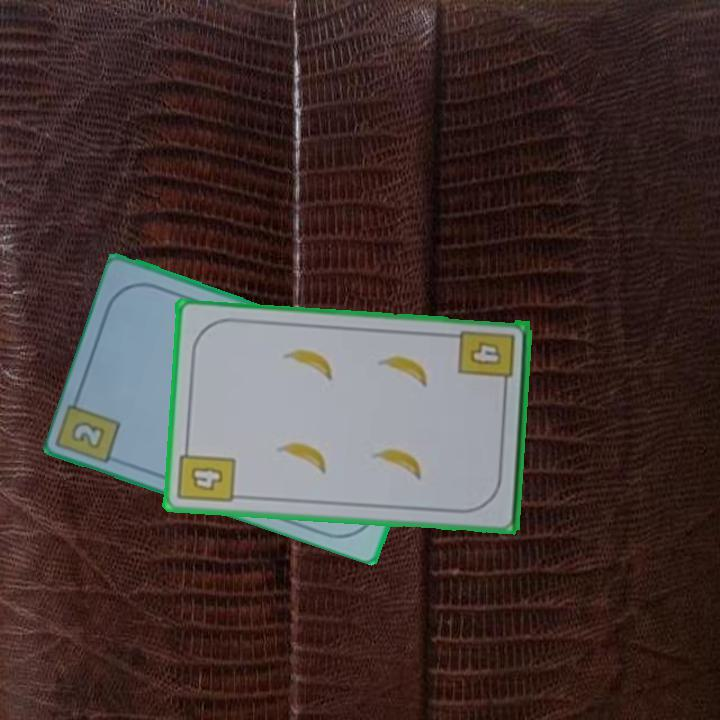2b: (71, 417, 109, 452)
4b: (174, 439, 238, 506), (455, 327, 518, 393)
